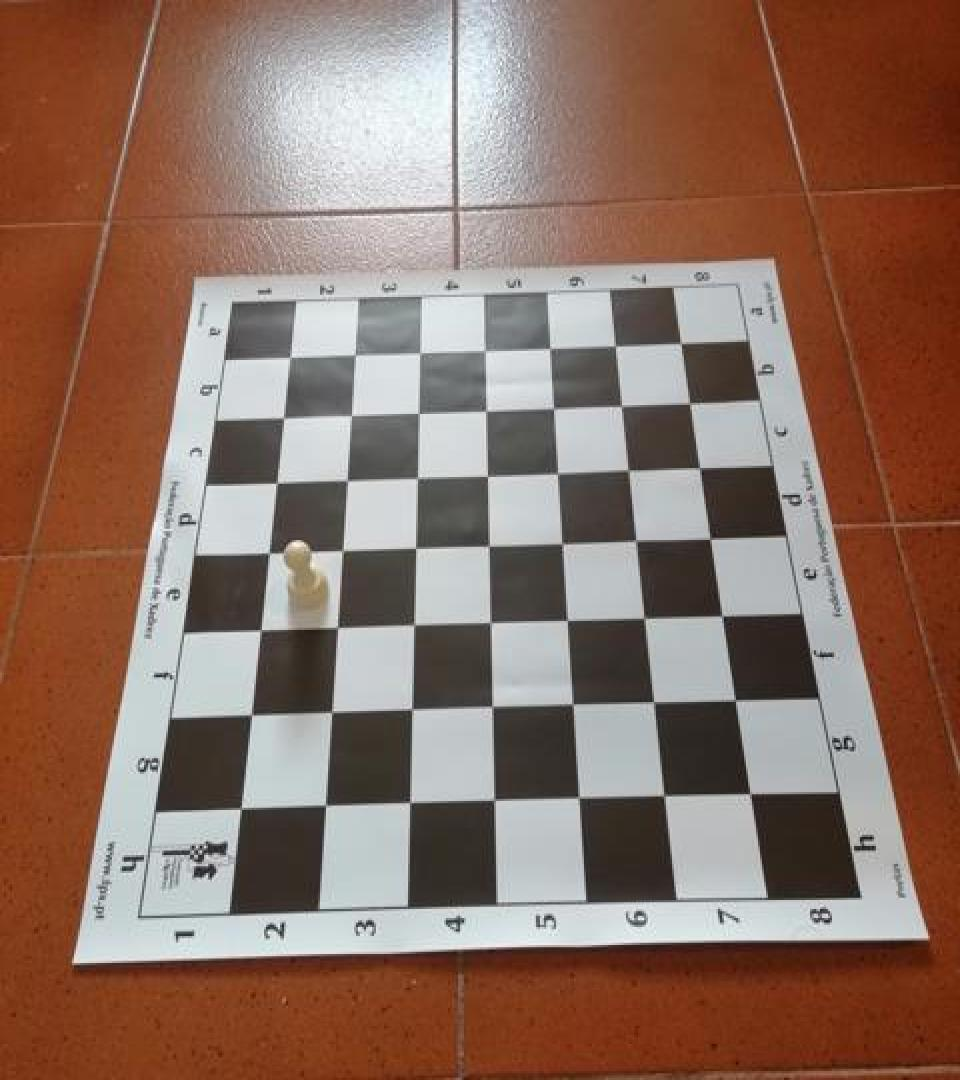xcorner: (666, 325, 696, 359), (600, 327, 630, 361), (535, 330, 565, 364), (470, 333, 500, 367), (404, 335, 434, 369), (275, 340, 305, 374), (676, 386, 706, 420), (607, 388, 637, 422), (539, 390, 569, 424), (471, 392, 501, 426), (403, 395, 433, 429), (336, 397, 366, 431), (268, 399, 298, 433), (686, 450, 716, 484), (614, 452, 644, 486), (543, 456, 573, 490), (472, 458, 502, 492), (402, 460, 432, 494), (331, 462, 361, 496), (697, 521, 727, 555), (622, 523, 652, 557), (548, 526, 578, 560), (474, 528, 504, 562), (400, 531, 430, 565), (327, 533, 357, 567), (253, 536, 283, 570), (709, 598, 739, 632), (553, 603, 583, 637), (476, 606, 506, 640), (321, 611, 351, 645), (245, 613, 275, 647), (723, 684, 753, 718), (641, 686, 671, 720), (478, 690, 508, 724), (396, 693, 426, 727), (316, 695, 346, 729), (235, 698, 265, 732), (737, 777, 767, 811), (651, 780, 681, 814), (565, 782, 595, 816), (480, 784, 510, 818), (394, 786, 424, 820), (310, 788, 340, 822), (225, 791, 255, 825), (339, 338, 369, 371), (261, 465, 291, 498), (631, 601, 661, 634), (398, 609, 428, 642), (559, 689, 589, 722)
